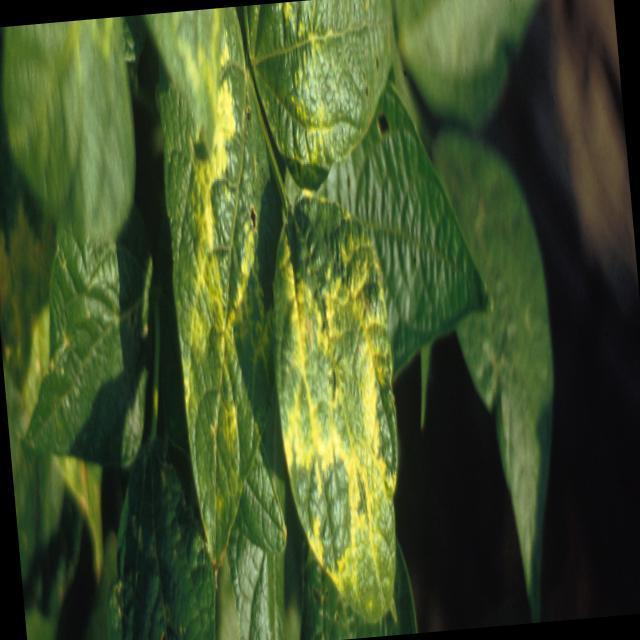Mosaic Virus: (264, 174, 412, 624), (154, 55, 286, 542)
